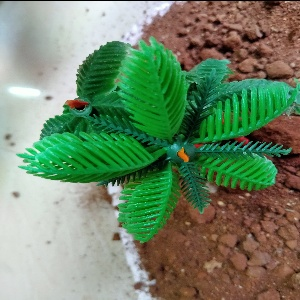plant: (17, 39, 300, 246)
